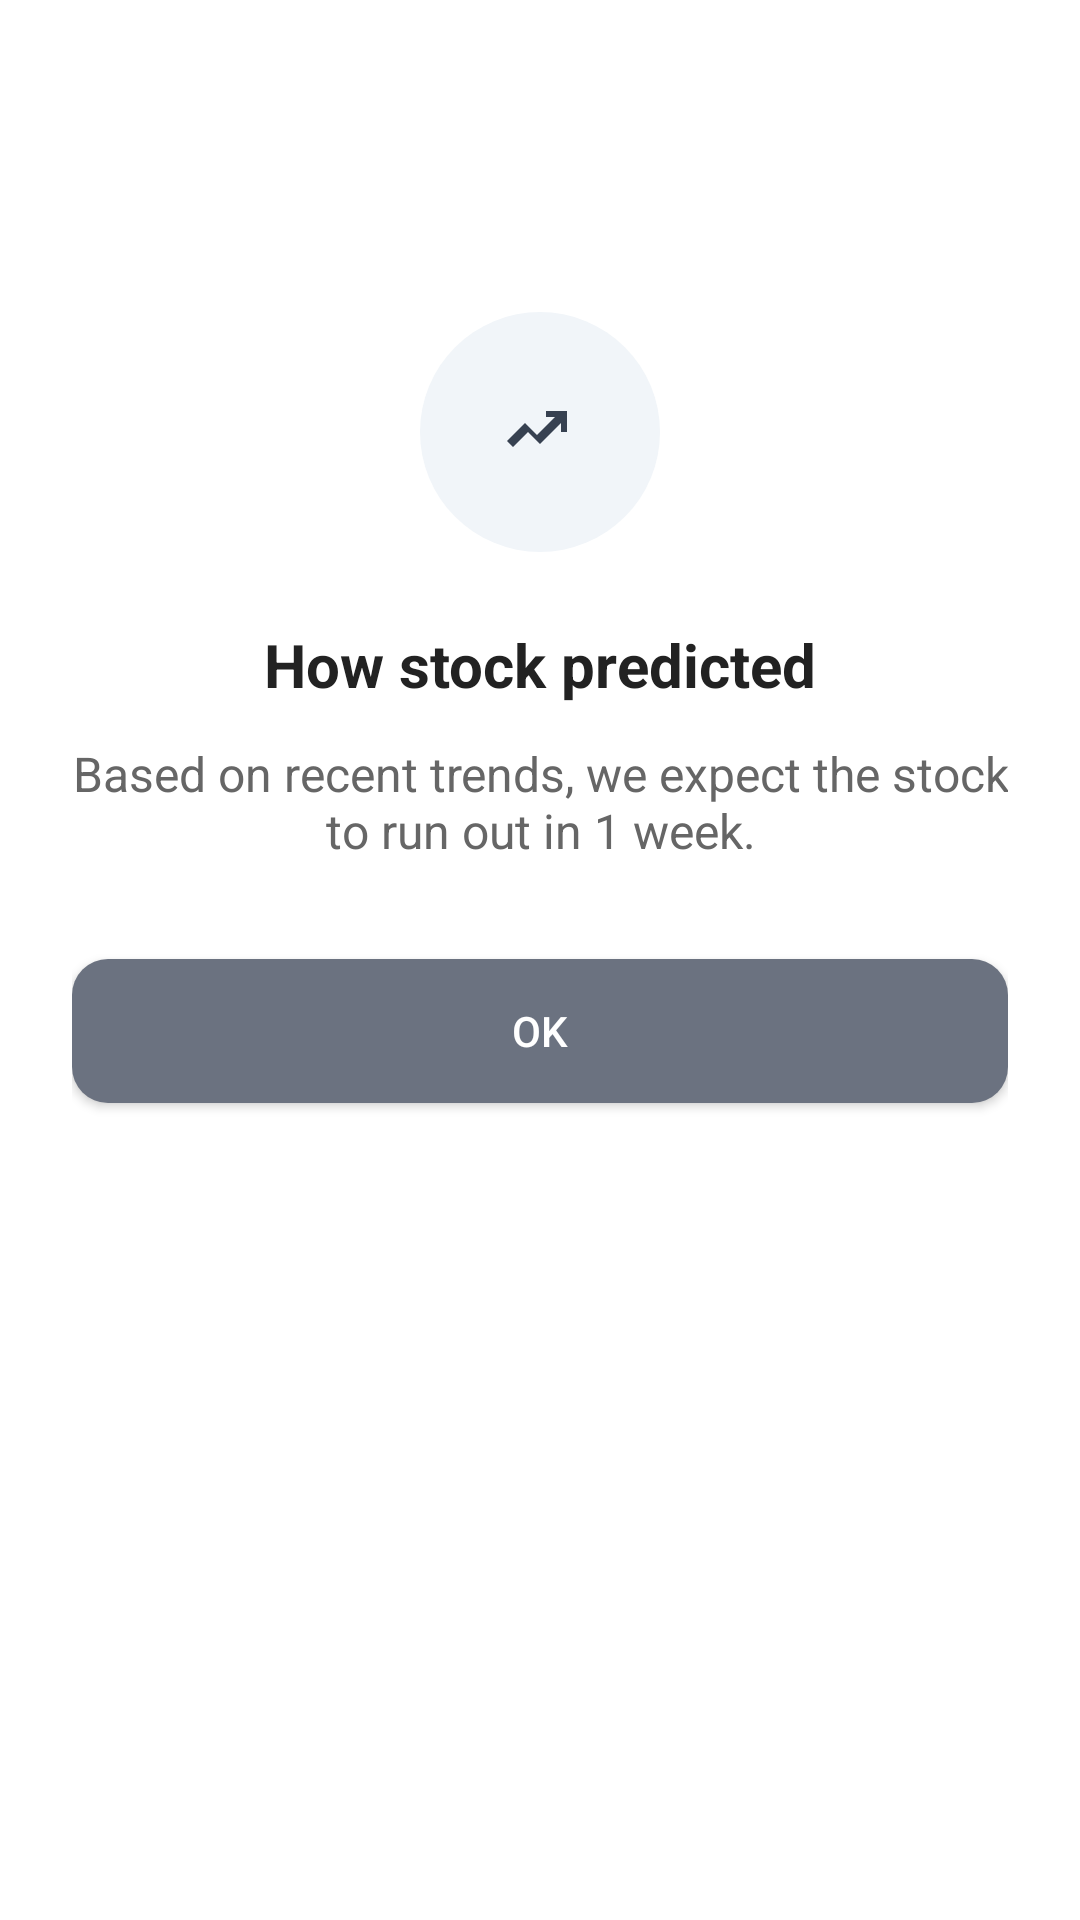

Icons on this 1080w x 1920h Android screen, each with its box as [left=x1, top=y1, right=x2, bottom=y2]:
trend up: [left=420, top=312, right=660, bottom=552]
